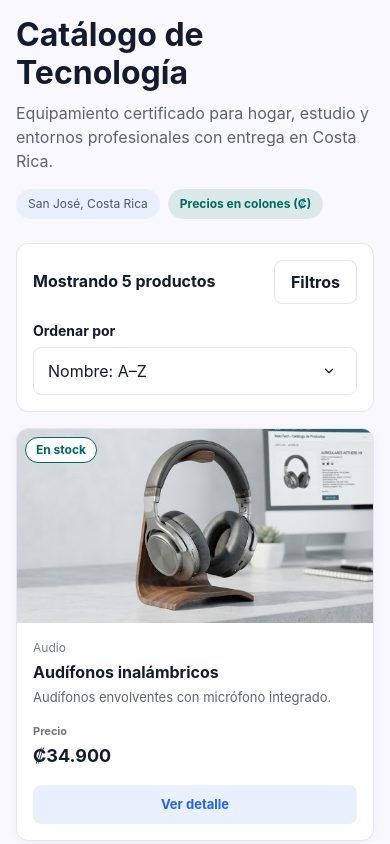
Test case: CatalogPage › abre los filtros móviles en un drawer dialog
The width and height of the screenshot is (390, 844).
Check: the heading "Mostrando 5 productos" is shown, box [33,271,216,291]
Click the button "Filtros".
click(315, 282)  # box [274,260,357,304]
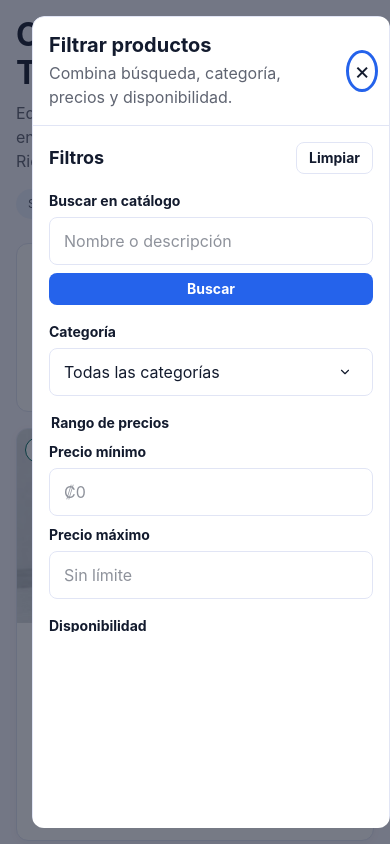
Check: the dialog "Filtrar productos" is shown
